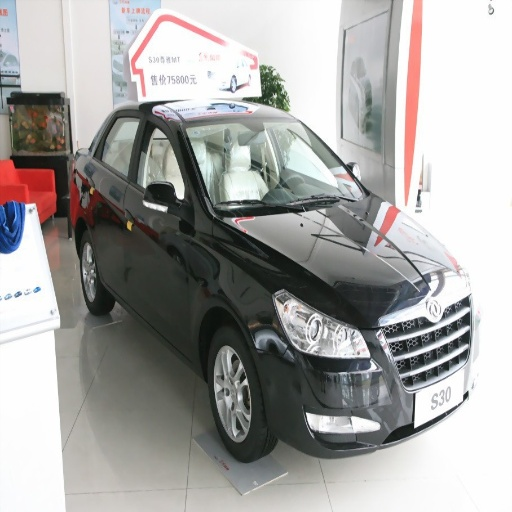front_bumper: (255, 347, 432, 455)
front_right_door: (127, 113, 193, 353)
front_right_light: (274, 289, 367, 358)
